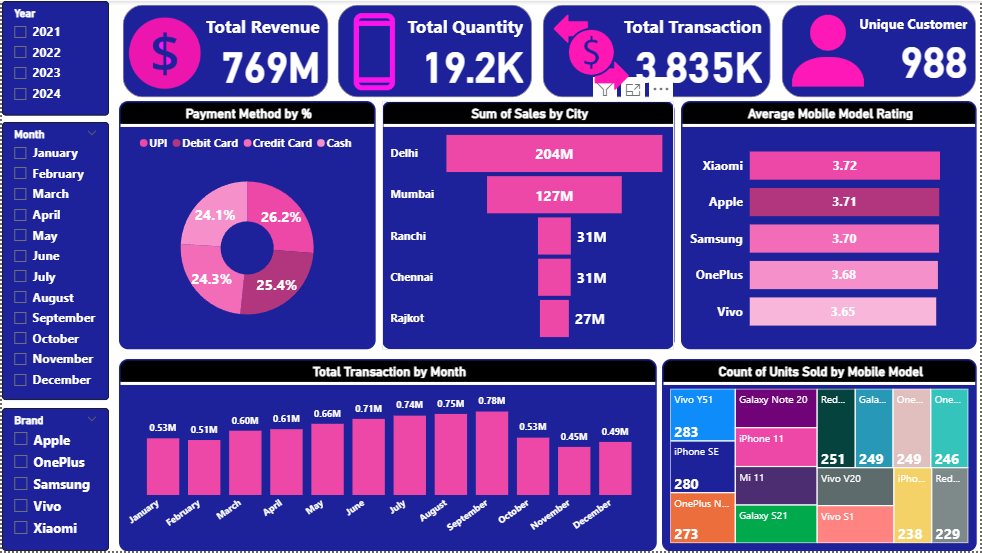

The dashboard page shown, as its layout file describes it:
{"tool":"powerbi","page":{"name":"Page 1","canvas":[1280,720],"ordinal":0},"visuals":[{"type":"slicer","fields":{"Values":["Main Sheet.Date.Variation.Date Hierarchy.Year"]},"box":[0,0,139.7,149.8],"z":0},{"type":"slicer","fields":{"Values":["Main Sheet.Date.Variation.Date Hierarchy.Month"]},"box":[0,158.4,139.7,364.3],"z":1000},{"type":"slicer","fields":{"Values":["Main Sheet.Brand"]},"box":[0,532.8,139.7,187.2],"z":2000},{"type":"cardVisual","fields":{"Data":["Sum(Main Sheet.Sales)"]},"box":[152.6,0,279.4,131],"z":3000},{"type":"cardVisual","fields":{"Data":["Sum(Main Sheet.Units Sold)"]},"box":[434.9,0,265,131],"z":4000},{"type":"cardVisual","fields":{"Data":["CountNonNull(Main Sheet.Transaction ID)"]},"box":[702.7,0,308.2,131],"z":5000},{"type":"cardVisual","fields":{"Data":["Count(Main Sheet.Customer Name)"]},"box":[1015.2,0,265,131],"z":6000},{"type":"donutChart","title":"Payment Method by %","fields":{"Y":["Sum(Main Sheet.Sales)"],"Category":["Main Sheet.Payment Method"]},"box":[152.6,131,335.5,325.4],"z":7000},{"type":"funnel","fields":{"Category":["Main Sheet.City"],"Y":["Sum(Main Sheet.Sales)"]},"box":[496.8,131,383,325.4],"z":8000},{"type":"columnChart","title":"Total Transaction by Month","fields":{"Category":["Main Sheet.Date.Variation.Date Hierarchy.Month"],"Y":["Sum(Main Sheet.Transaction ID)"]},"box":[152.6,468,704.2,252],"z":9000},{"type":"barChart","title":"Average Mobile Model Rating","fields":{"Y":["Avg(Main Sheet.Customer Ratings)"],"Category":["Main Sheet.Brand"]},"box":[888.5,131,387.4,325.4],"z":10000},{"type":"treemap","fields":{"Group":["Main Sheet.Mobile Model"],"Values":["CountNonNull(Main Sheet.Units Sold)"]},"box":[864,468,411.8,252],"z":11000},{"type":"image","box":[1026.7,13,110.9,103.7],"z":12000},{"type":"image","box":[152.6,5.8,119.5,125.3],"z":13000},{"type":"image","box":[712.8,13,115.2,108],"z":14000},{"type":"image","box":[432,7.2,110.9,116.6],"z":15000}]}

Visuals, with their boxes in screenshot pixels (x1, y1, x2, y2), scaled from the page's 1280x720 canvas onto the 982x553 screenshot:
slicer - Main Sheet.Date.Variation.Date Hierarchy.Year: 0/0/107/115
slicer - Main Sheet.Date.Variation.Date Hierarchy.Month: 0/122/107/401
slicer - Main Sheet.Brand: 0/409/107/552
cardVisual - Sum(Main Sheet.Sales): 117/0/331/101
cardVisual - Sum(Main Sheet.Units Sold): 334/0/537/101
cardVisual - CountNonNull(Main Sheet.Transaction ID): 539/0/776/101
cardVisual - Count(Main Sheet.Customer Name): 779/0/981/101
"Payment Method by %" donutChart: 117/101/374/351
funnel - Main Sheet.City x Sum(Main Sheet.Sales): 381/101/675/351
"Total Transaction by Month" columnChart: 117/359/657/552
"Average Mobile Model Rating" barChart: 682/101/979/351
treemap - Main Sheet.Mobile Model x CountNonNull(Main Sheet.Units Sold): 663/359/979/552
image: 788/10/873/90
image: 117/4/209/101
image: 547/10/635/93
image: 331/6/417/95
